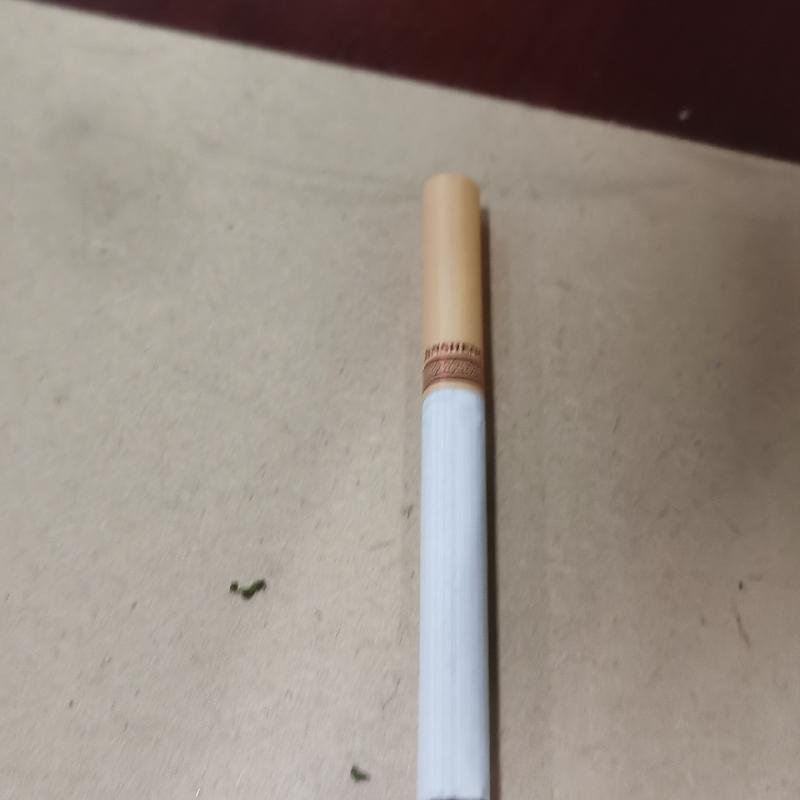cigarette: (411, 173, 498, 800)
